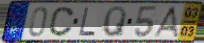0: (27, 6, 49, 38)
5: (133, 5, 159, 39)
A: (151, 5, 180, 38)
C: (47, 6, 76, 38)
L: (78, 6, 98, 37)
Q: (101, 5, 128, 38)
